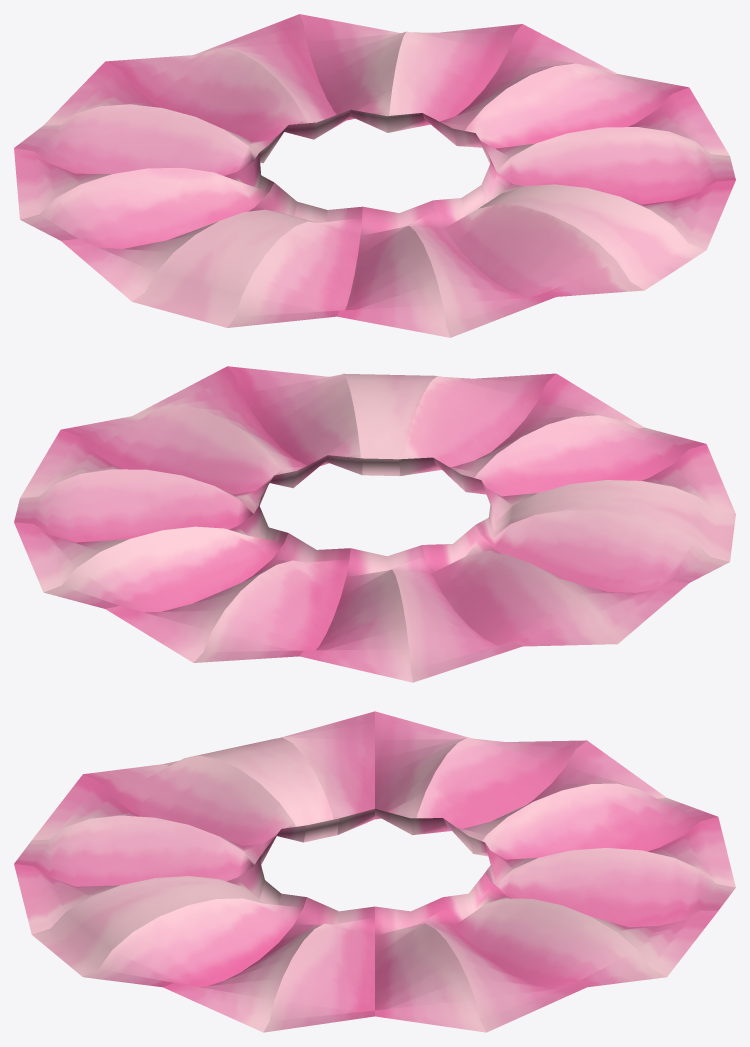
The model's file is ponpon.fbx.
The picture shows the model from 3 angles, top to bottom: view 1: azimuth 30°, elevation 25°; view 2: azimuth 150°, elevation 25°; view 3: azimuth 270°, elevation 25°; orthographic projection.
Parts seen in each view (by area): view 1: ponpon; view 2: ponpon; view 3: ponpon.
Boxes of the visible parts, left/top/right/bottom form: ponpon: left=14, top=14, right=735, bottom=337; ponpon: left=14, top=366, right=735, bottom=682; ponpon: left=14, top=711, right=735, bottom=1032.
Bounding box in the file's own units: 9.36 × 0.6672 × 9.36.
